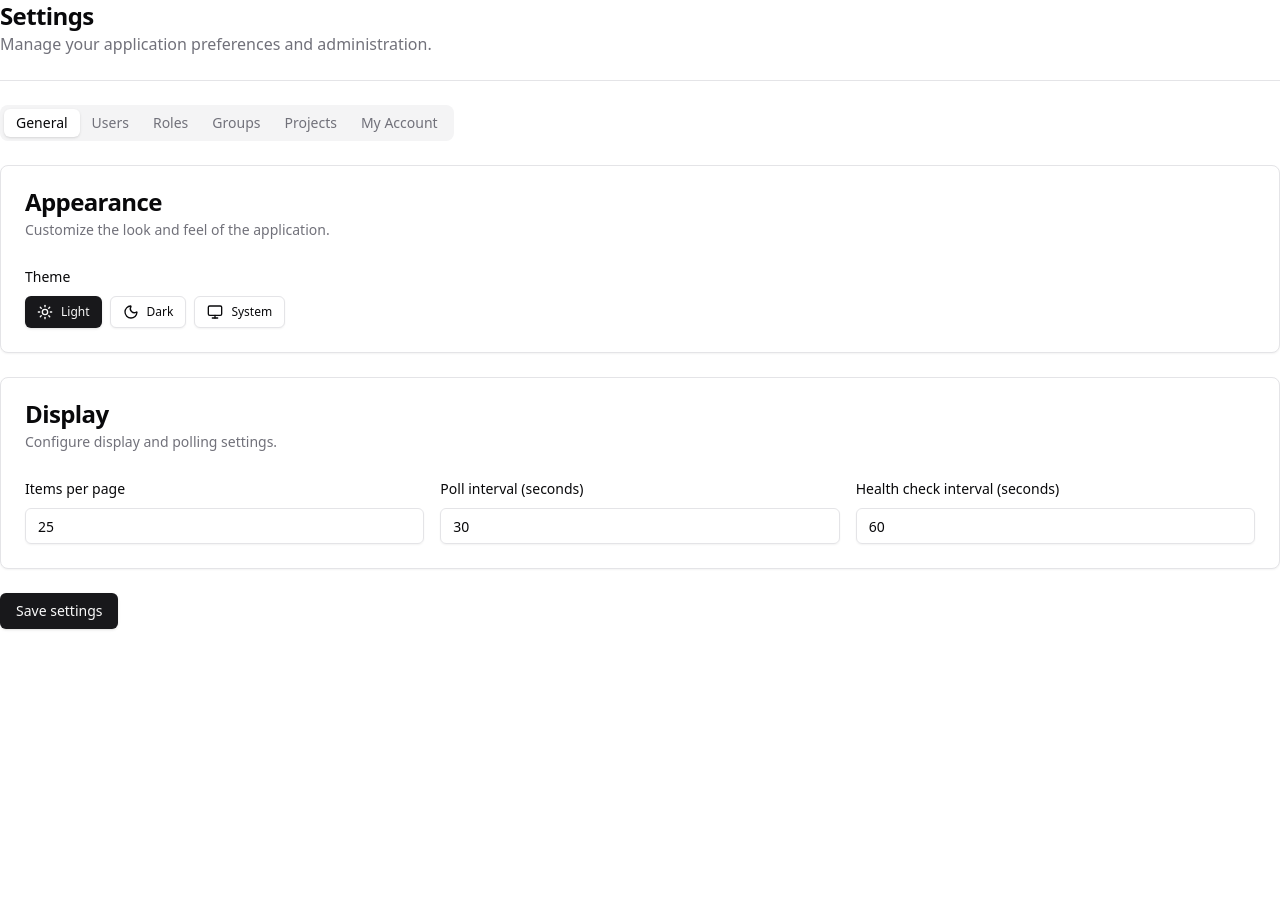
Test: SettingsPage — Users tab CRUD › opens edit dialog when clicking Edit on an existing user
This screenshot has width=1280, height=900.
Click the tab "Users" at (110, 123), box x1=80 y1=109 x2=141 y2=137
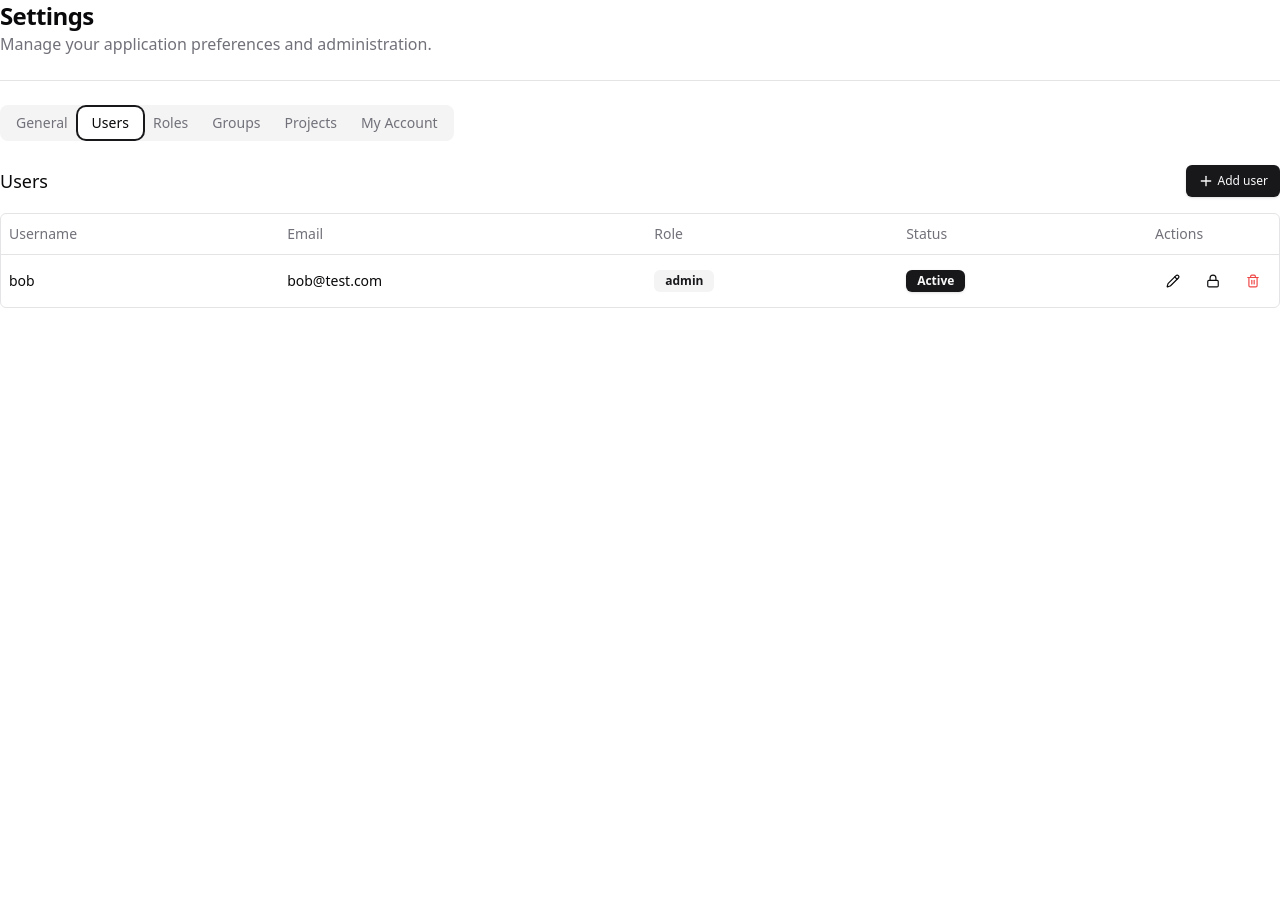
Expected: the text "bob" is shown, x1=1 y1=254 x2=279 y2=306
Click the button titled "Edit" at (1173, 280), box x1=1155 y1=262 x2=1191 y2=298
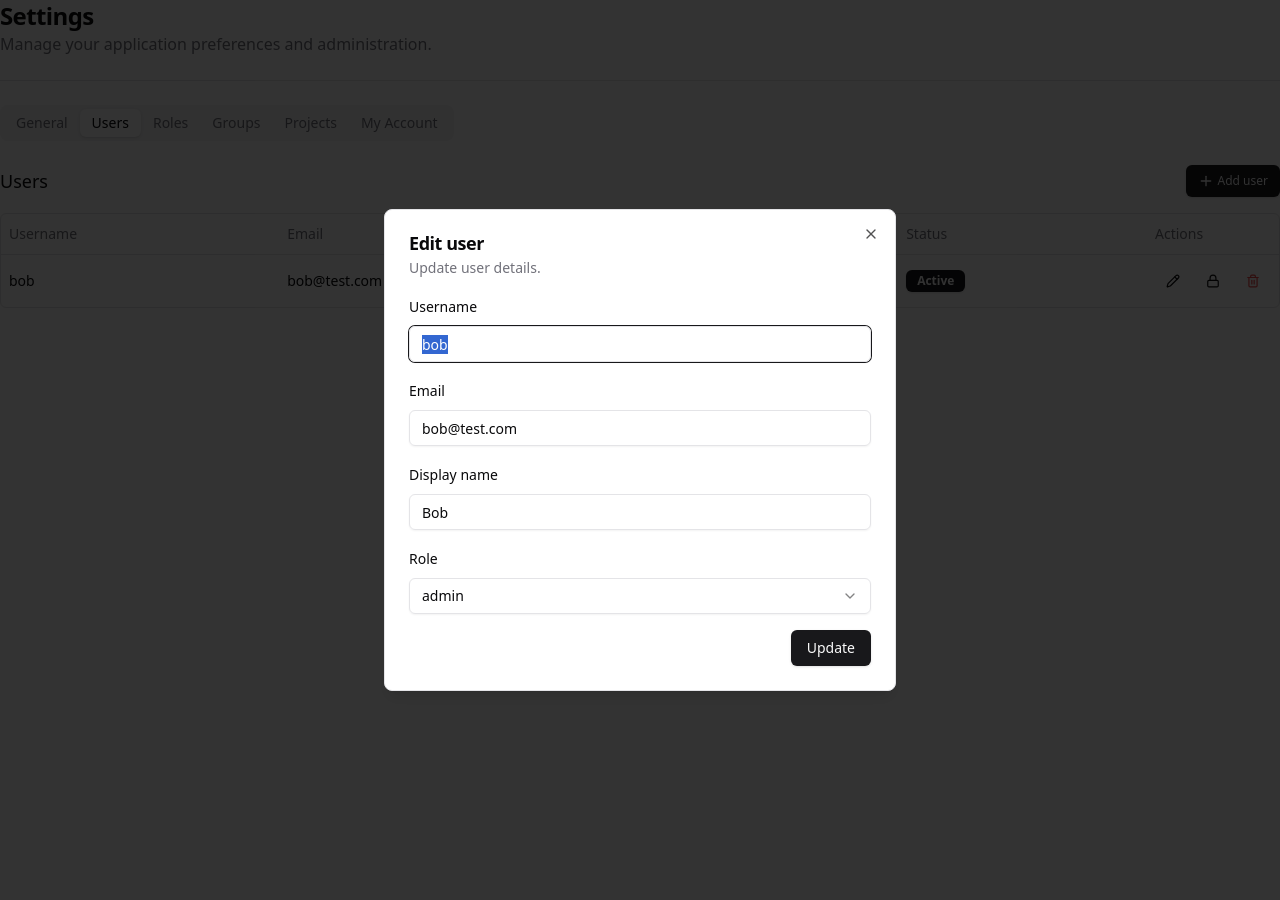
Expected: the dialog is shown, x1=384 y1=209 x2=896 y2=691
Expected: the heading "Edit user" is shown, x1=409 y1=231 x2=484 y2=255
